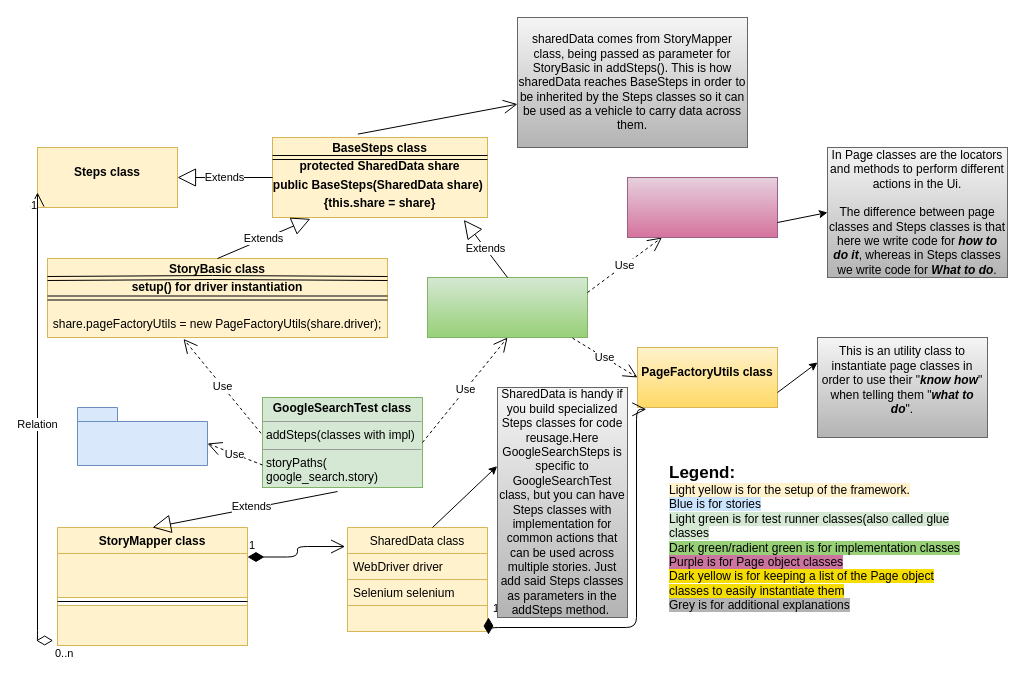
Some shapes in this 1025 by 678 pixel diagram are drawn without their labels. The centre of each missing label's shape, as x and y in pixels:
"addSteps(); storyPaths(looks for all stories);" belongs at (x=152, y=625).
"google_search.story" belongs at (x=142, y=436).
"GoogleHomePage class" belongs at (x=702, y=207).
"GoogleSearchSteps class" belongs at (x=507, y=307).
"PageFactoryUtils pfu" belongs at (x=417, y=618).
"SharedData share; share.selenium = new Selenium();" belongs at (x=152, y=575).
